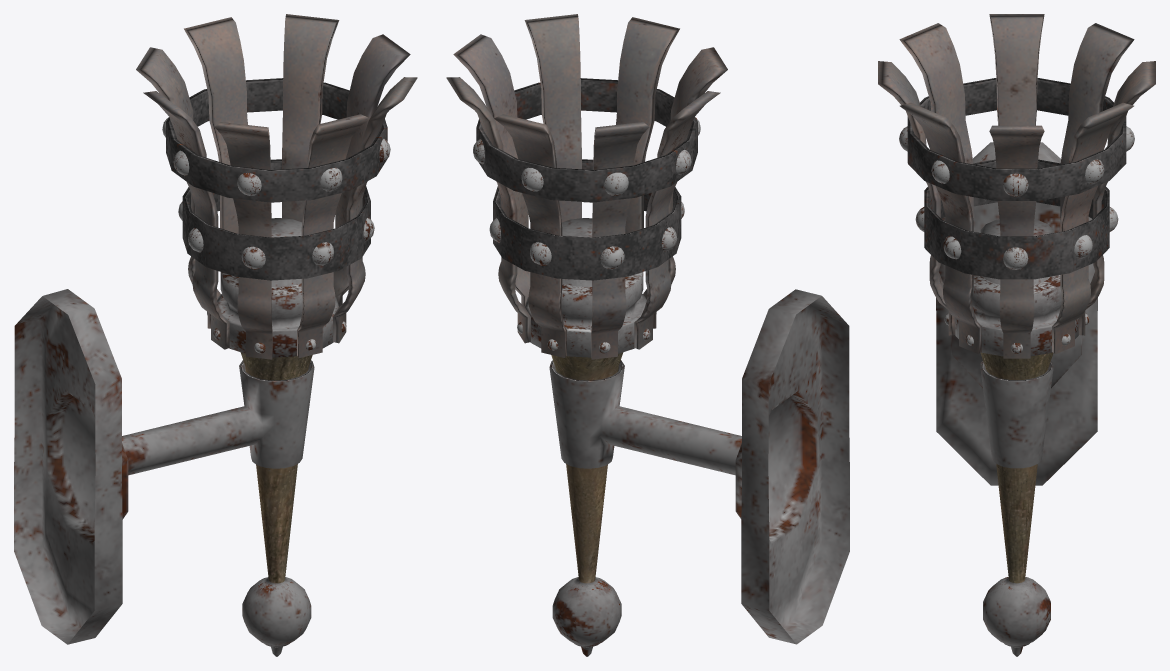
File: Torch.fbx
3 views of the same model, side by side, from view 1: azimuth 30°, elevation 25°; view 2: azimuth 150°, elevation 25°; view 3: azimuth 270°, elevation 25° (orthographic).
Parts seen in each view (by area): view 1: Torch; view 2: Torch; view 3: Torch.
Part boxes in pixels (x1,y1,x2,y2): Torch: (14,14,417,656); Torch: (446,14,849,656); Torch: (878,14,1155,656).
Size of the model in its own units: 35.89 by 58.41 by 25.16.
